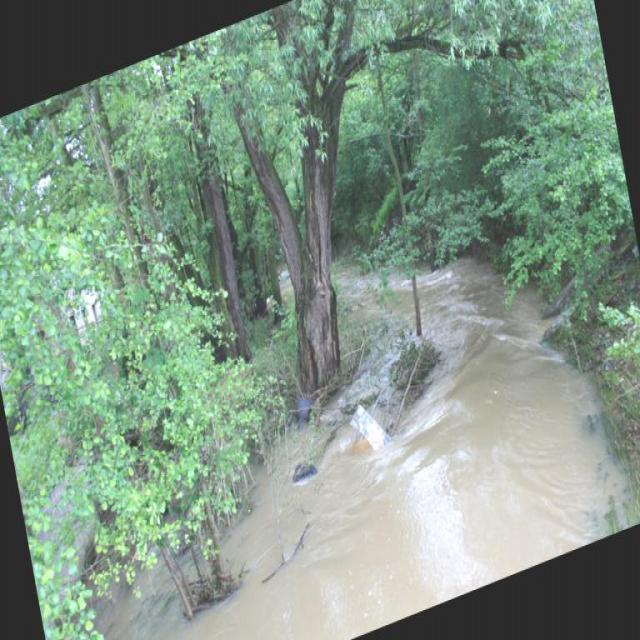flood: (82, 173, 627, 639)
